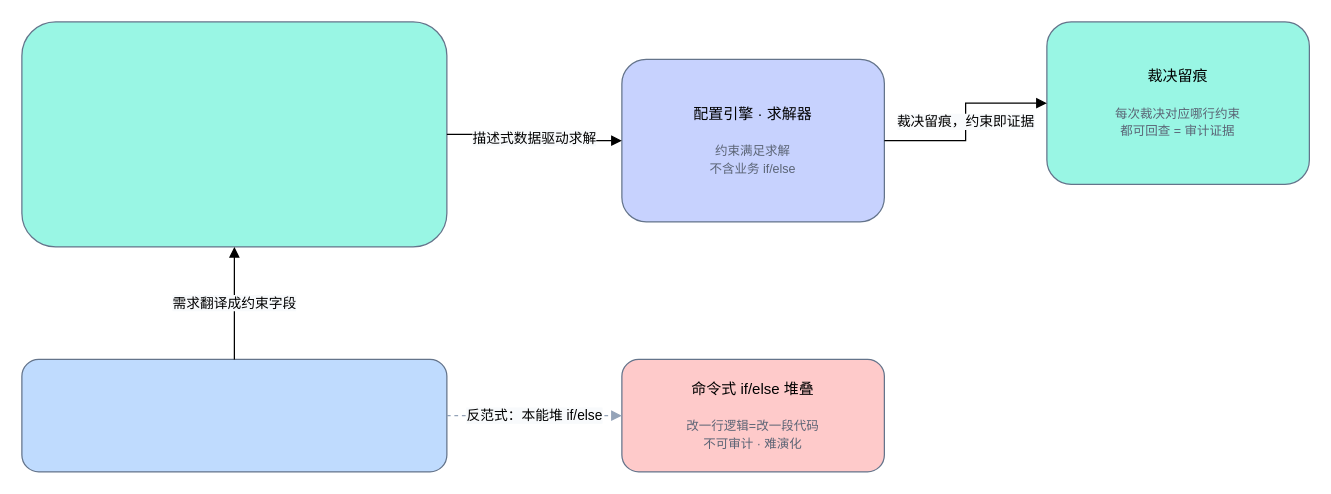
The diagram is 1331 pixels wide and 494 high, and some of its shapes have lost their labels. The shapes that lost their labels are listed below. From the top down, each one's centre as x and y in pixels, then its label:
the point at 234,134: 声明式模型画像（schema） 硬约束字段 · 软约束权重 · 显式失败标记 加模型 = 在这里加一行配置
the point at 234,415: 一次需求 / 新模型接入 把「要」与「必须」参数化 交回画像，不进分支代码
